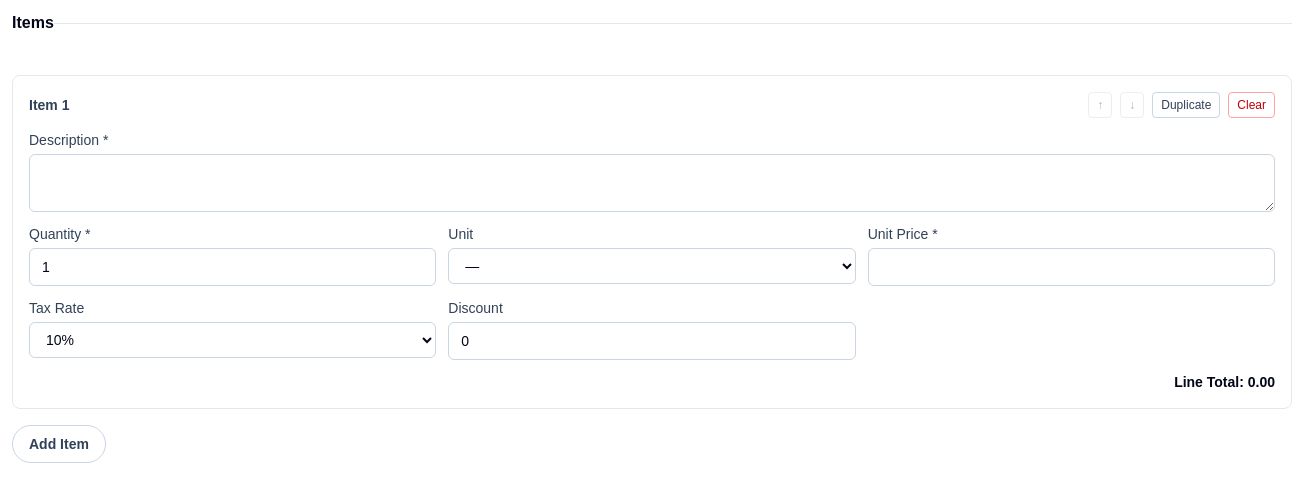
Test: LineItemsSection › clears the last remaining row instead of removing it - FSD section 24
This screenshot has width=1292, height=480.
Type "Consulting" into the text box labelled "Description".
click(652, 183); type("Consulting")  # box [29, 154, 1275, 212]
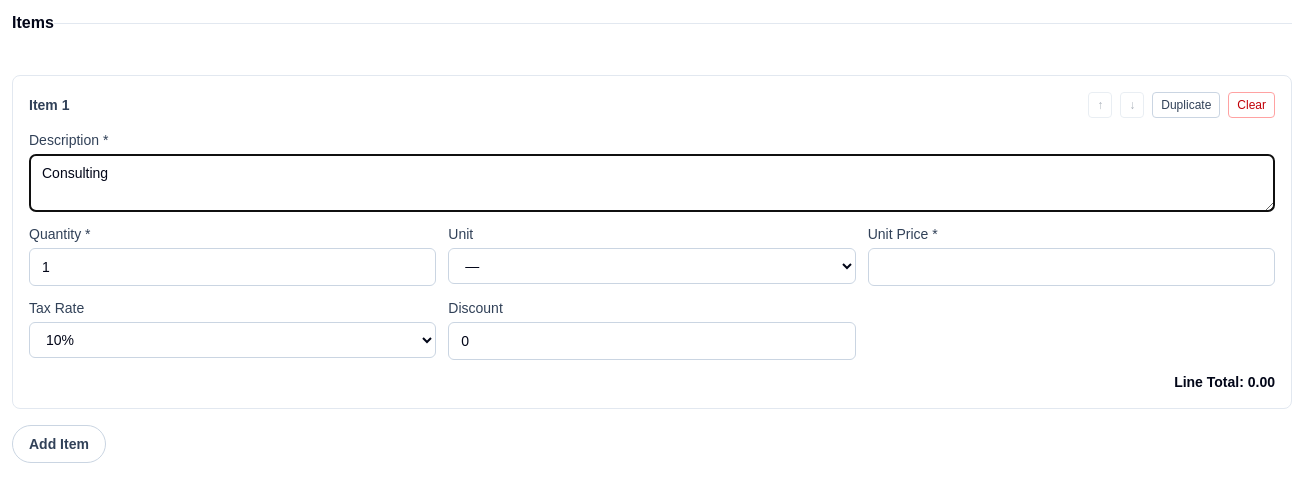
Click the button with aria-label "Clear item 1".
click(1252, 105)  # box [1228, 92, 1275, 118]
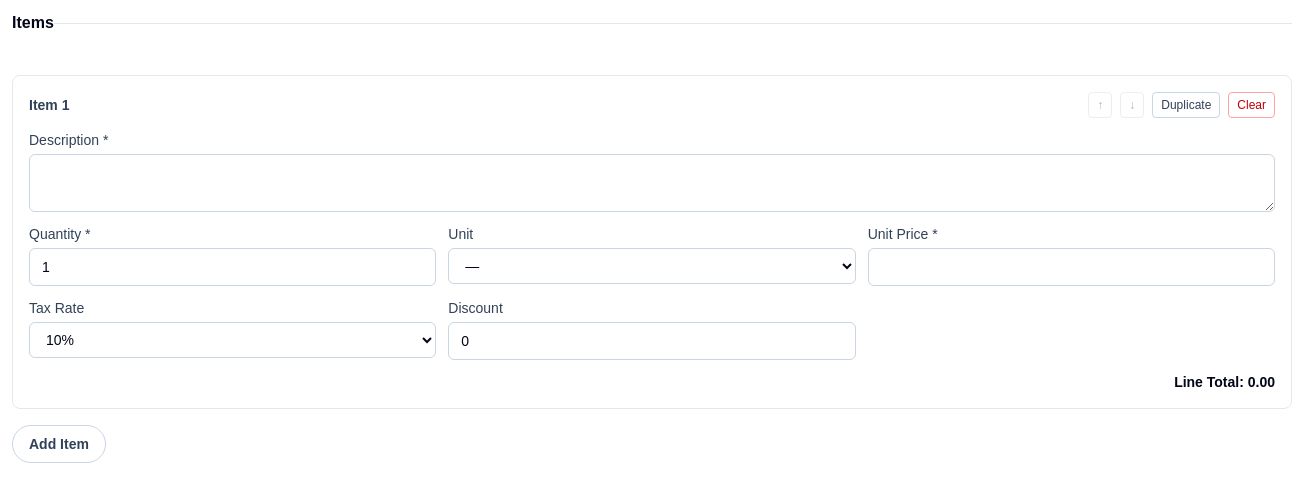
Check: the text "Item 1" is shown once, box [29, 95, 70, 115]
Check: the text box labelled "Description" is empty, box [29, 154, 1275, 212]
